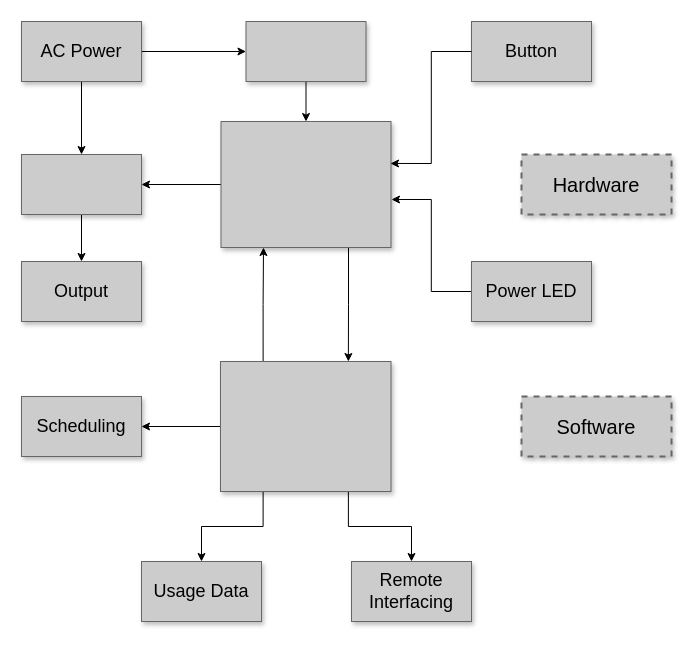
This 696x646 diagram has some shape labels left out. The shapes that lost their labels are listed below. From the top down, each one's centre as x and y in pixels, then its label:
pixel 306 52: AC/DC Converter
pixel 82 186: Solid State Relay
pixel 306 185: Microcontroller
pixel 306 427: WebUI
